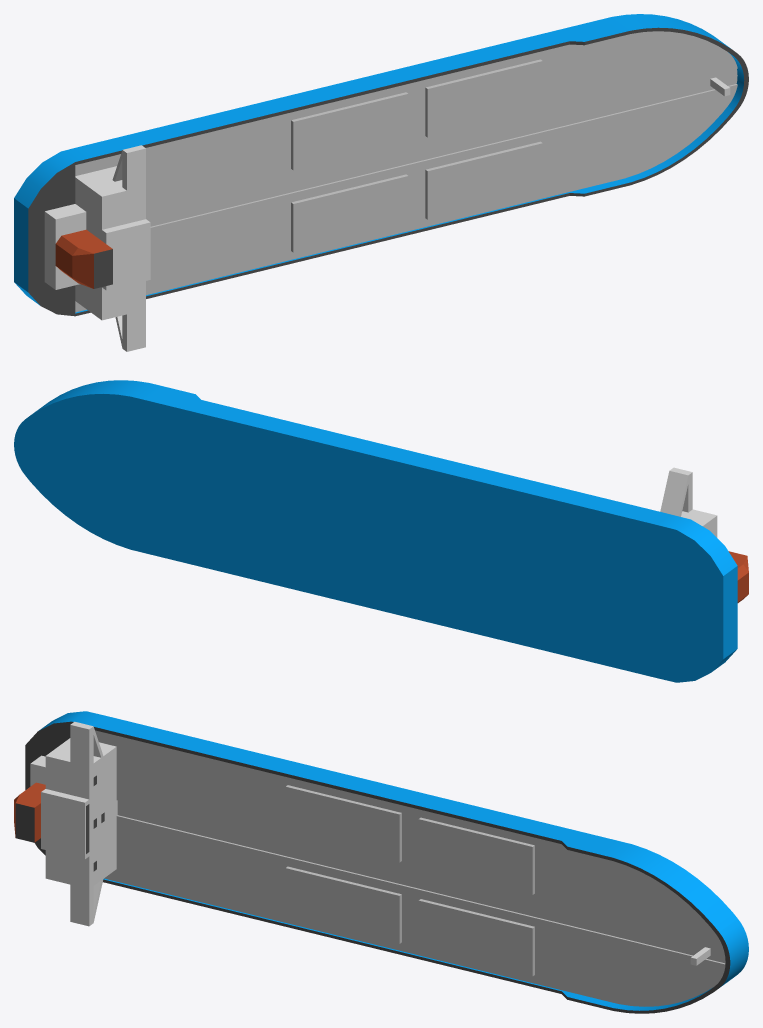
Rendered from oil_tanker_2.dae.
The picture shows the model from 3 angles, top to bottom: view 1: azimuth 30°, elevation 25°; view 2: azimuth 150°, elevation 25°; view 3: azimuth 330°, elevation 25°; orthographic projection.
Parts seen in each view (by area): view 1: coords_ME_ID67_MA_material_11, coords_ME_ID3_MA_material_6, coords_ME_ID33_MA_material_8, coords_ME_ID73_MA_material, coords_ME_ID85_MA_material_11, coords_ME_ID61_MA_material_11, coords_ME_ID19_MA_material_11, coords_ME_ID11_MA_material_11, coords_ME_ID55_MA_material_6, coords_ME_ID41_MA_material_14, coords_ME_ID49_MA_material; view 2: coords_ME_ID3_MA_material_6, coords_ME_ID33_MA_material_8, coords_ME_ID41_MA_material_14; view 3: coords_ME_ID67_MA_material_11, coords_ME_ID3_MA_material_6, coords_ME_ID33_MA_material_8, coords_ME_ID73_MA_material, coords_ME_ID85_MA_material_11, coords_ME_ID61_MA_material_11, coords_ME_ID19_MA_material_11, coords_ME_ID11_MA_material_11, coords_ME_ID55_MA_material_6, coords_ME_ID41_MA_material_14, coords_ME_ID49_MA_material.
Part boxes in pixels (x1,y1,x2,y2): coords_ME_ID67_MA_material_11: [75, 31, 737, 312]; coords_ME_ID3_MA_material_6: [14, 14, 730, 305]; coords_ME_ID33_MA_material_8: [44, 145, 150, 351]; coords_ME_ID73_MA_material: [28, 27, 748, 316]; coords_ME_ID85_MA_material_11: [291, 174, 408, 252]; coords_ME_ID61_MA_material_11: [425, 59, 542, 137]; coords_ME_ID19_MA_material_11: [425, 141, 542, 219]; coords_ME_ID11_MA_material_11: [291, 92, 408, 170]; coords_ME_ID55_MA_material_6: [75, 52, 744, 313]; coords_ME_ID41_MA_material_14: [55, 229, 112, 288]; coords_ME_ID49_MA_material: [94, 249, 112, 288]; coords_ME_ID3_MA_material_6: [14, 380, 737, 682]; coords_ME_ID33_MA_material_8: [660, 467, 717, 537]; coords_ME_ID41_MA_material_14: [728, 551, 748, 602]; coords_ME_ID67_MA_material_11: [95, 730, 725, 1006]; coords_ME_ID3_MA_material_6: [39, 711, 748, 987]; coords_ME_ID33_MA_material_8: [30, 721, 117, 926]; coords_ME_ID73_MA_material: [25, 721, 730, 1013]; coords_ME_ID85_MA_material_11: [285, 866, 401, 943]; coords_ME_ID61_MA_material_11: [418, 817, 534, 894]; coords_ME_ID19_MA_material_11: [418, 899, 534, 976]; coords_ME_ID11_MA_material_11: [285, 785, 401, 862]; coords_ME_ID55_MA_material_6: [103, 878, 711, 1010]; coords_ME_ID41_MA_material_14: [14, 782, 45, 842]; coords_ME_ID49_MA_material: [15, 803, 34, 842].
Size of the model in its own units: 1175 by 312 by 148.
